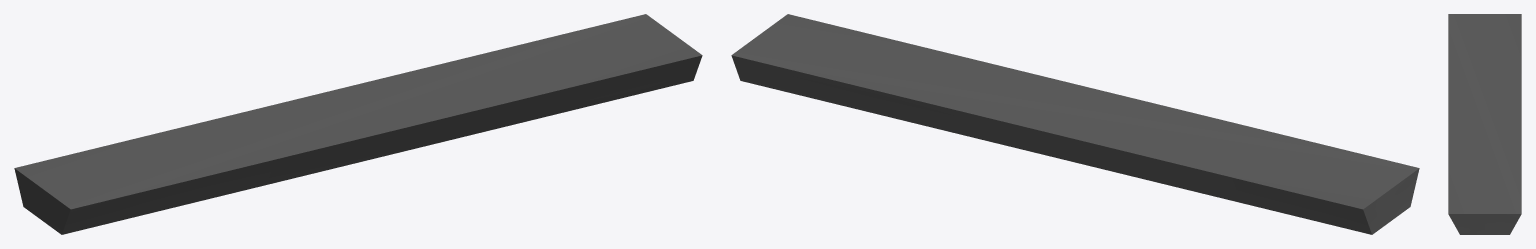
File: LampVariation.fbx
The picture shows the model from 3 angles, left to right: view 1: azimuth 30°, elevation 25°; view 2: azimuth 150°, elevation 25°; view 3: azimuth 270°, elevation 25°; orthographic projection. The views are drawn at different scales.
Visible parts, largest first — view 1: LampadaBastaoLow; view 2: LampadaBastaoLow; view 3: LampadaBastaoLow.
Part boxes in pixels (left/top/right/bottom): LampadaBastaoLow: left=14, top=14, right=702, bottom=234; LampadaBastaoLow: left=731, top=14, right=1419, bottom=234; LampadaBastaoLow: left=1448, top=14, right=1521, bottom=234.
Bounding box in the file's own units: 154 × 8.9 × 23.89.
Materials: 1 (1 with a texture image).
